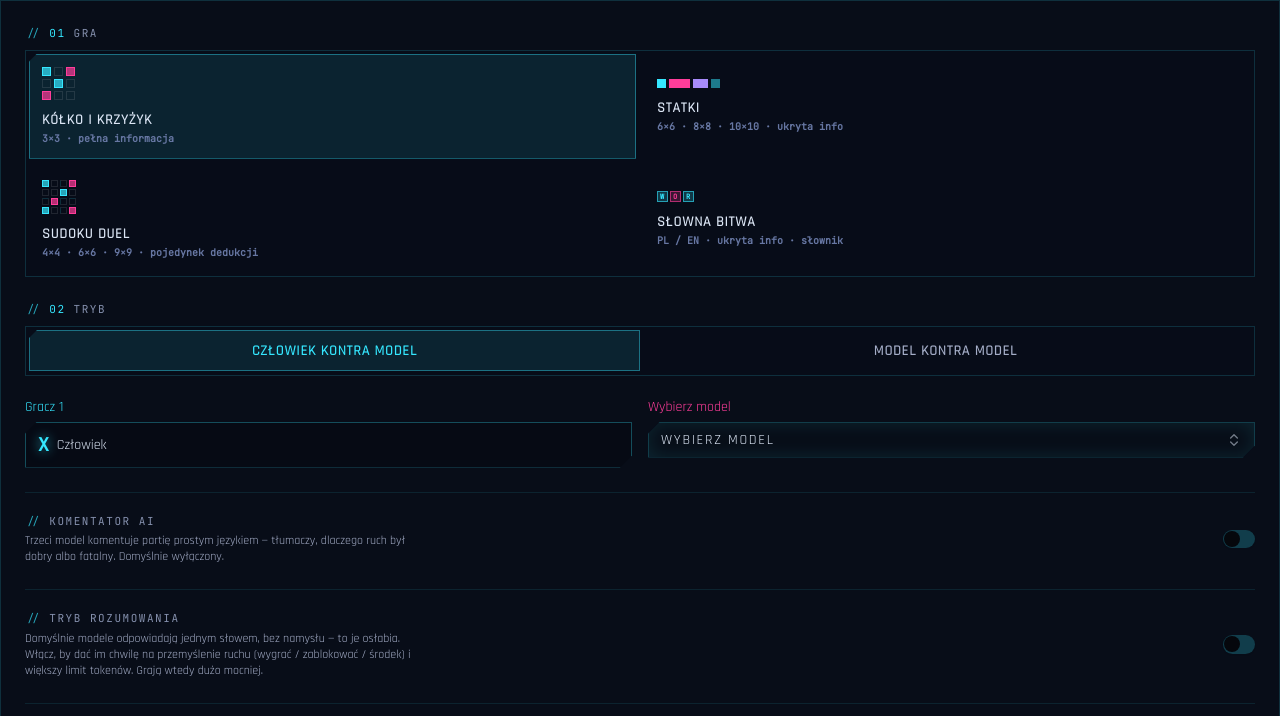
Test: SetupScreen › offers Sudoku Duel with its variant selector
Click the tab "Sudoku Duel": (86, 234) [29,167,636,273]
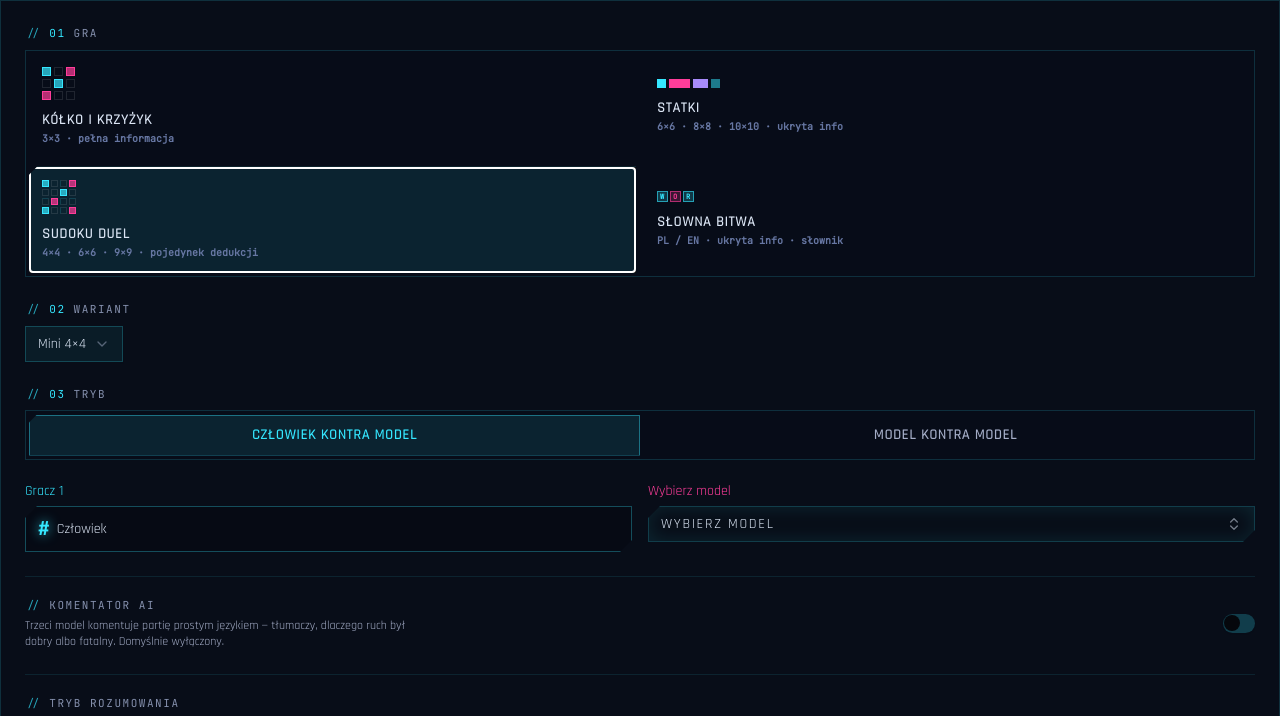
Expected: the text "Wariant" is shown, [74,301,131,318]
Expected: the text "Mini 4×4" is shown, [38,334,86,354]
